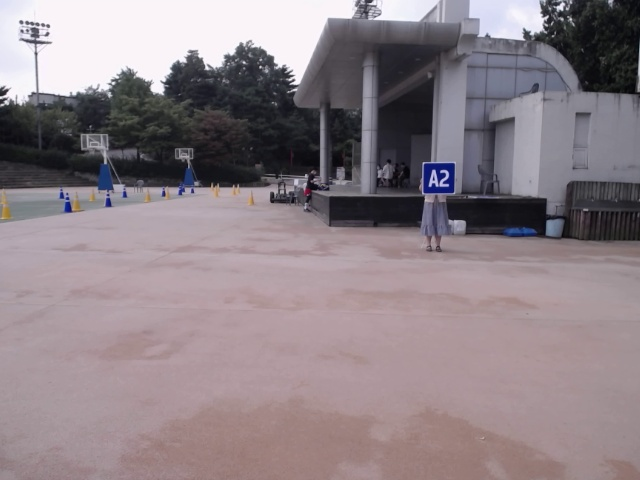delivery_a2: (423, 162, 456, 194)
